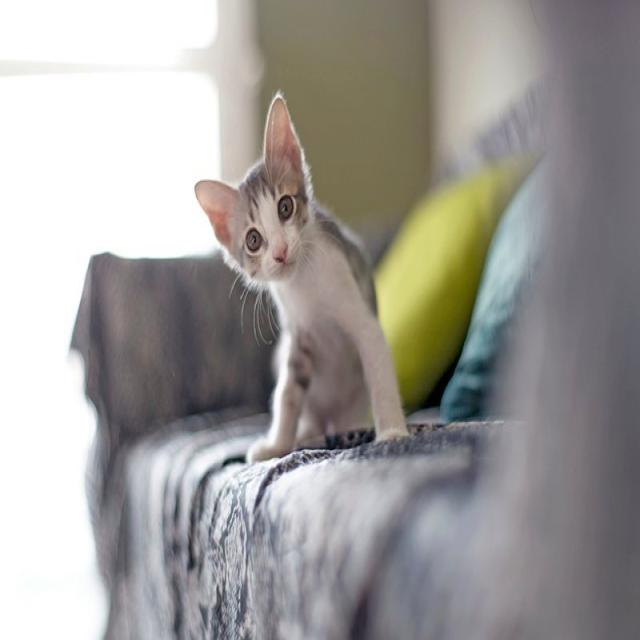cat: (194, 94, 406, 463)
